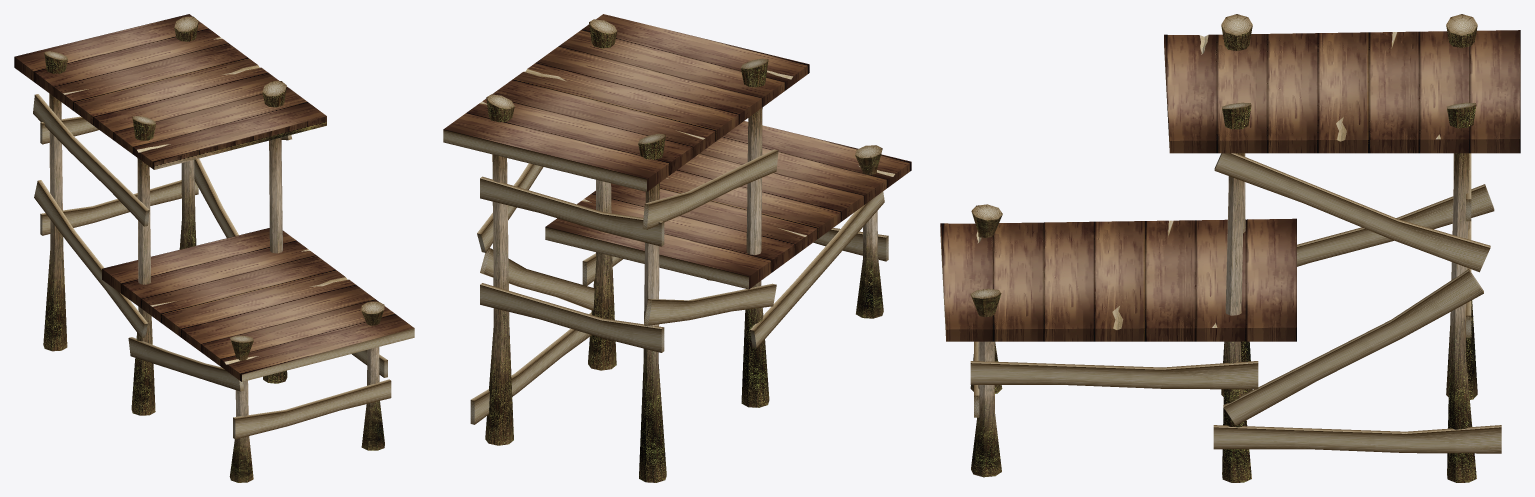
Rendered from p2_platform2_small_step_LOD0.fbx.
The picture shows the model from 3 angles, left to right: view 1: azimuth 30°, elevation 25°; view 2: azimuth 150°, elevation 25°; view 3: azimuth 270°, elevation 25°; orthographic projection. The views are drawn at different scales.
Parts seen in each view (by area): view 1: polymsh; view 2: polymsh; view 3: polymsh.
Boxes of the visible parts, x1=… form: polymsh: x1=14, y1=14, x2=414, y2=482; polymsh: x1=443, y1=14, x2=911, y2=482; polymsh: x1=940, y1=14, x2=1520, y2=482.
Size of the model in its own units: 100 by 160 by 225.
